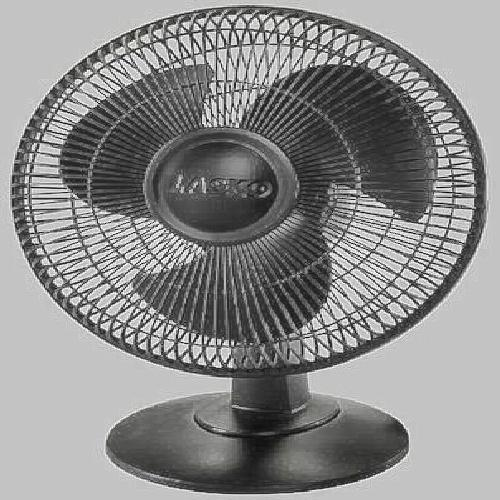fan: (29, 16, 473, 481)
